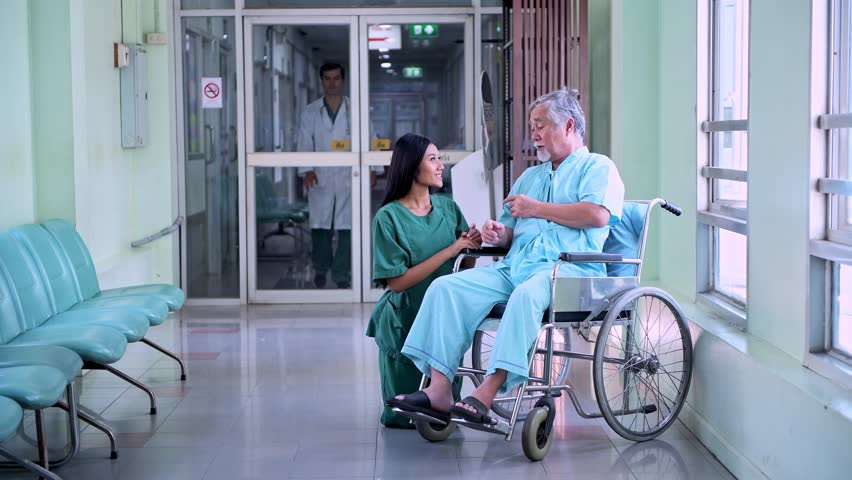wheelchair: (384, 88, 694, 461)
